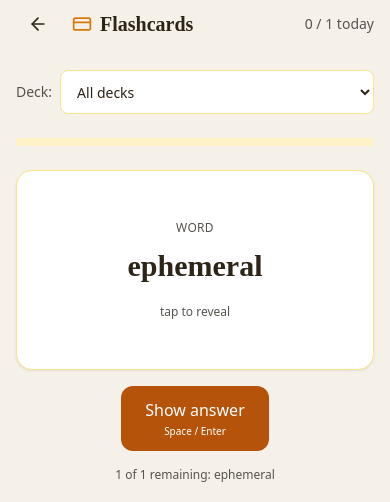
Test: done state shows deck-specific message when a deck is selected
Select a specific deck
Select "German (3 due)" in the dropdown labelled "Deck:": (217,92) [60, 70, 374, 114]
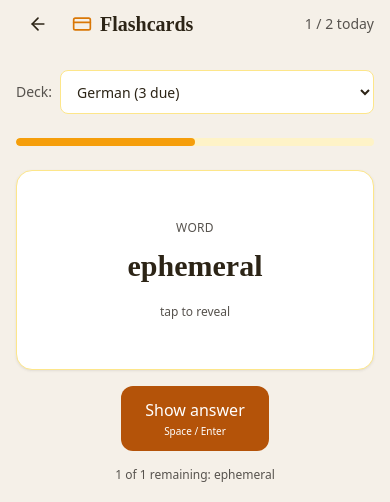
Expected: the 1st text "ephemeral" is shown, [128, 248, 262, 284]
Grade the card
Click the text "Show answer": (195,410) [145, 398, 245, 422]
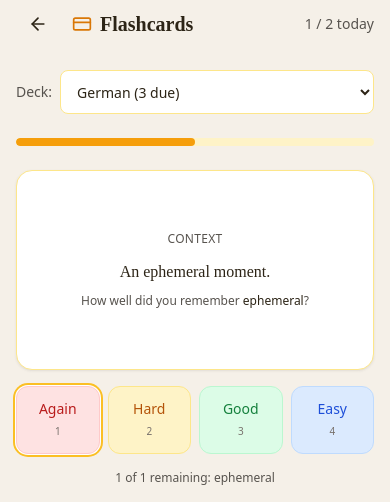
Click the button "Easy 4": (332,420) [290, 386, 374, 454]
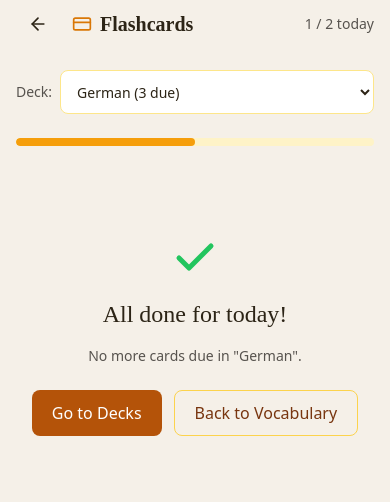
Expected: the heading "All done for today!" is shown, [103, 298, 287, 330]
Expected: the text "No more cards due in \"German\"." is shown, [88, 346, 302, 366]
